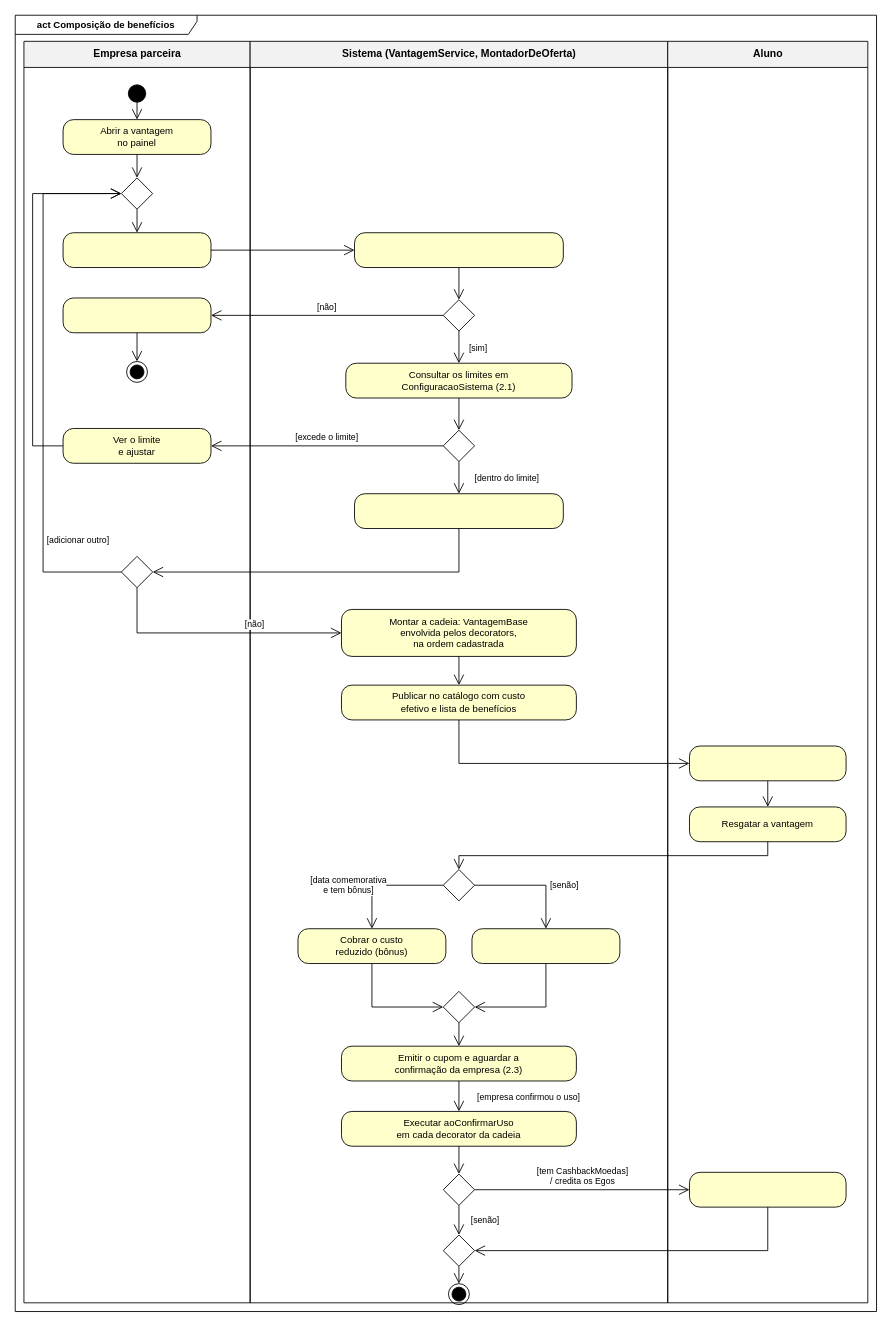
This 892x1327 diagram has some shape labels left out. The centre of each missing label's shape, as x and y in pixels:
Cobrar o custo cadastrado: the point at 545,946
Escolher o benefício e os parâmetros: the point at 136,250
Gravar BeneficioAdicional: the point at 458,511
Receber Egos de volta (CashbackMoedas): the point at 767,1189
Ver "vantagem não encontrada": the point at 136,315
Ver o catálogo com os benefícios: the point at 767,763
Verificar se a vantagem é da empresa: the point at 458,250
